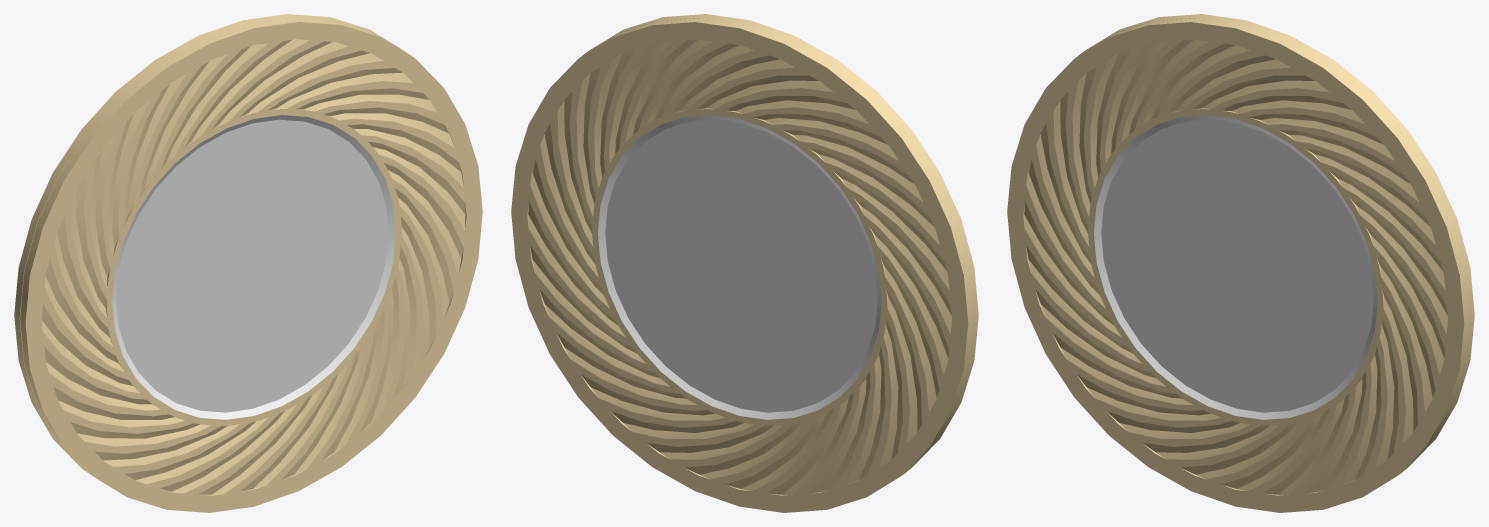
The model's file is mdl_zesty_ttctoken.gltf.
3 views of the same model, side by side, from view 1: azimuth 30°, elevation 25°; view 2: azimuth 150°, elevation 25°; view 3: azimuth 330°, elevation 25° (orthographic).
Visible parts, largest first — view 1: token; view 2: token; view 3: token.
Part boxes in pixels (left/top/right/bottom): token: left=14, top=14, right=482, bottom=512; token: left=511, top=14, right=978, bottom=512; token: left=1007, top=14, right=1474, bottom=512.
Bounding box in the file's own units: 0.5004 × 0.5 × 0.0207.
